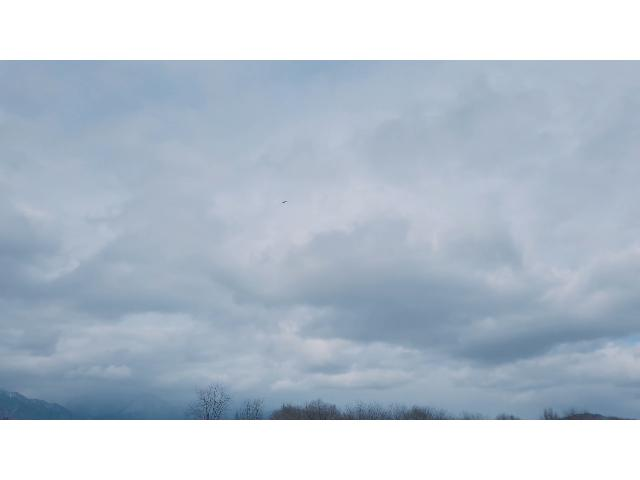Anti-Drone: (280, 196, 292, 206)
